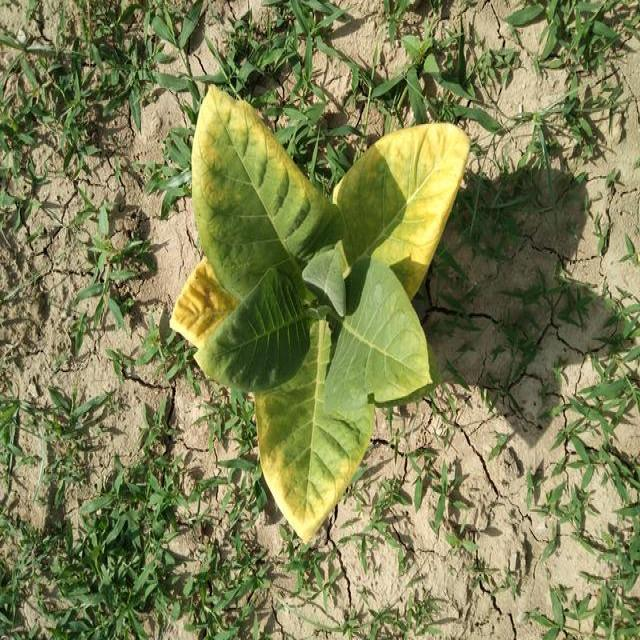crop: (169, 79, 478, 556)
